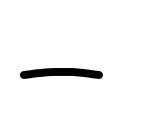minus: (20, 68, 103, 80)
